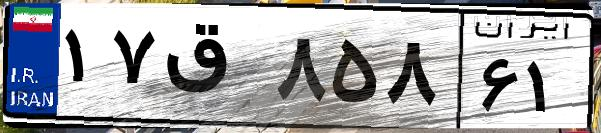1: (57, 26, 110, 100), (525, 38, 570, 115)
5: (330, 28, 385, 110)
6: (475, 38, 525, 113)
7: (110, 28, 158, 98)
8: (270, 28, 330, 110), (385, 28, 445, 110)
ق: (158, 20, 270, 120)
